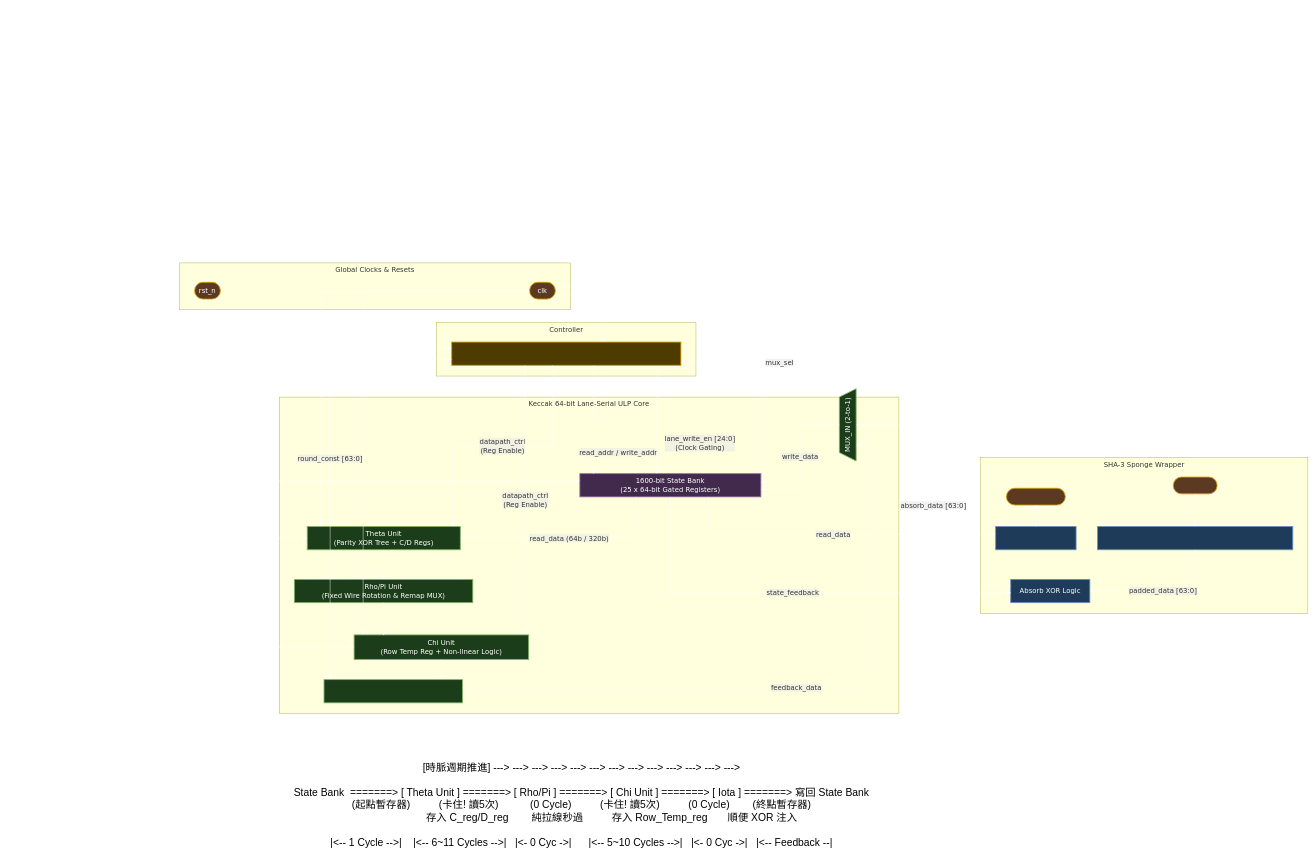
This 1315x856 diagram has some shape labels left out. The centre of each missing label's shape, as x and y in pixels:
"Global Low-Power FSM (Absorb / 24-Round / Squeeze Scheduler)" goes at point (566, 353).
"Hash Result Out" goes at point (1036, 496).
"Input FIFO & Padding (10*1 Pad & Domain Separation)" goes at point (1195, 538).
"Iota Unit (Round Constant Injector)" goes at point (393, 691).
"Output Formatter" goes at point (1035, 538).
"Raw Msg In" goes at point (1195, 485).
